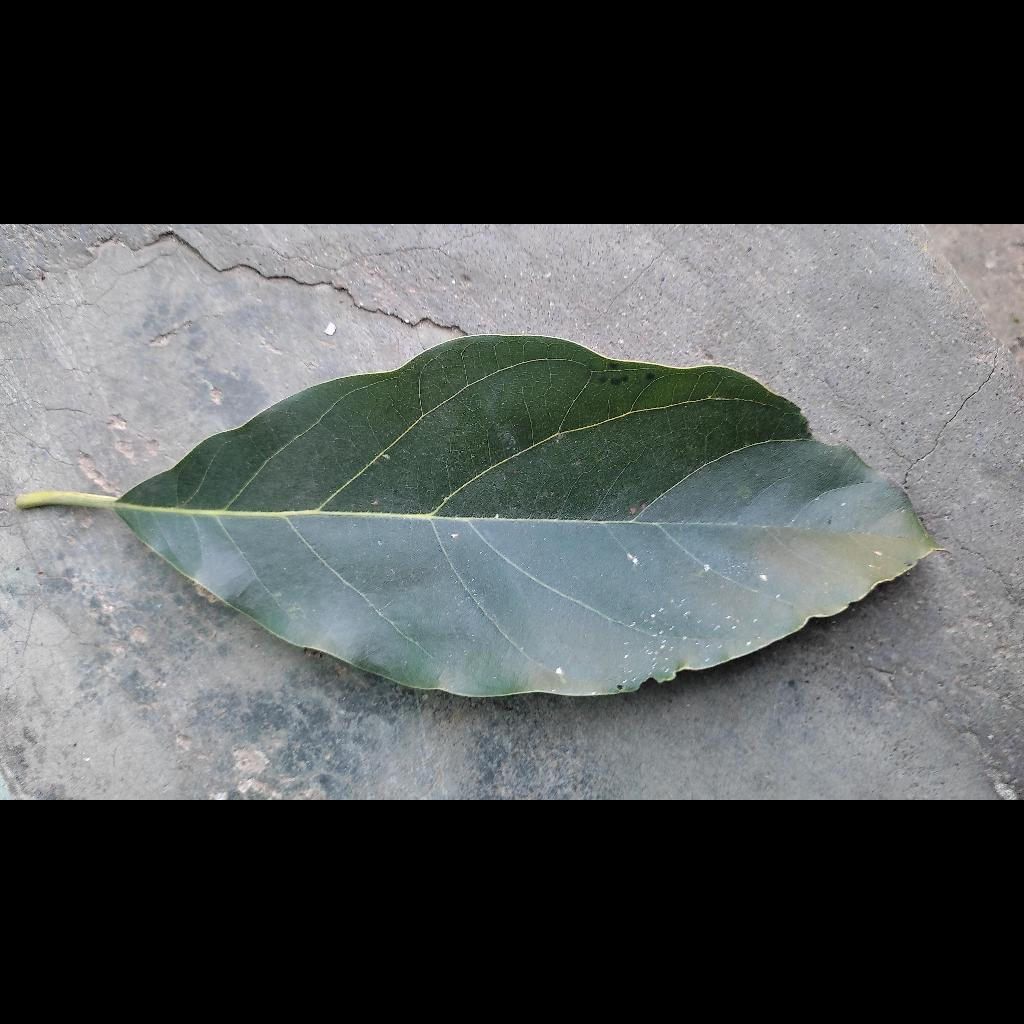hoja_sana: (87, 328, 1007, 688)
